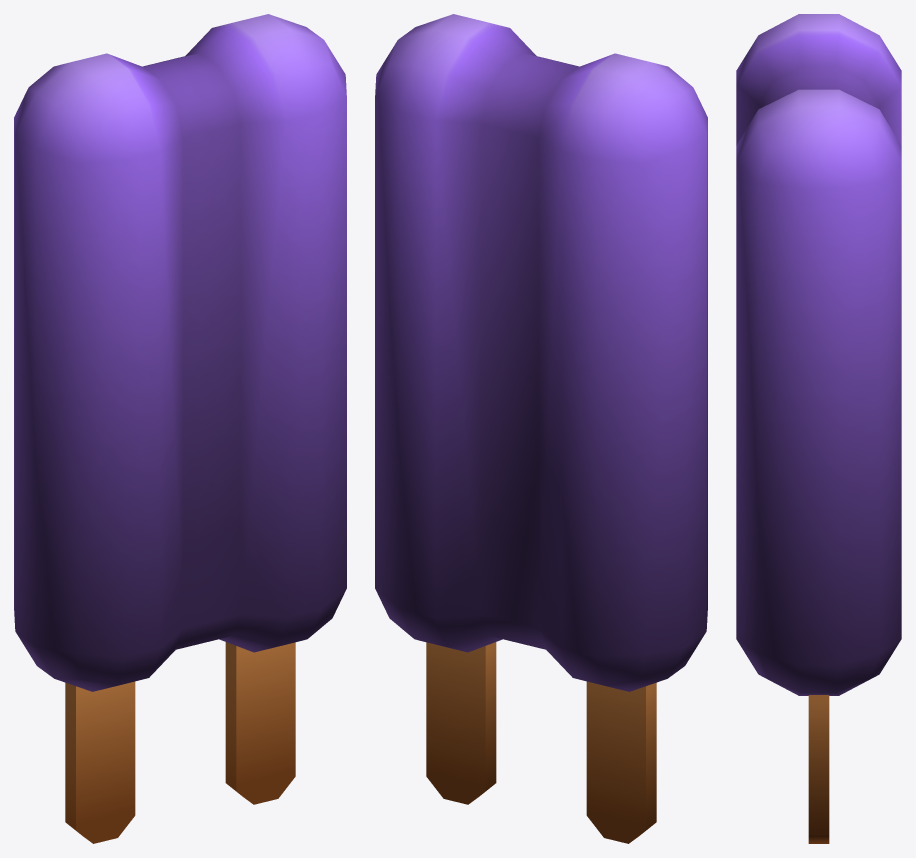
Rendered from m_DoublePopsicle10.fbx.
The picture shows the model from 3 angles, left to right: view 1: azimuth 30°, elevation 25°; view 2: azimuth 150°, elevation 25°; view 3: azimuth 270°, elevation 25°; orthographic projection. The views are drawn at different scales.
Parts seen in each view (by area): view 1: m_DoublePopsicle10_L, m_DoublePopsicle10_R; view 2: m_DoublePopsicle10_L, m_DoublePopsicle10_R; view 3: m_DoublePopsicle10_R, m_DoublePopsicle10_L.
Boxes of the visible parts, x1,y1,x2,y2 form: m_DoublePopsicle10_L: [14, 53, 211, 843]; m_DoublePopsicle10_R: [159, 14, 346, 804]; m_DoublePopsicle10_L: [510, 53, 707, 843]; m_DoublePopsicle10_R: [375, 14, 562, 804]; m_DoublePopsicle10_R: [736, 80, 901, 843]; m_DoublePopsicle10_L: [736, 14, 901, 145].
Size of the model in its own units: 9.64 by 22.99 by 4.64.
